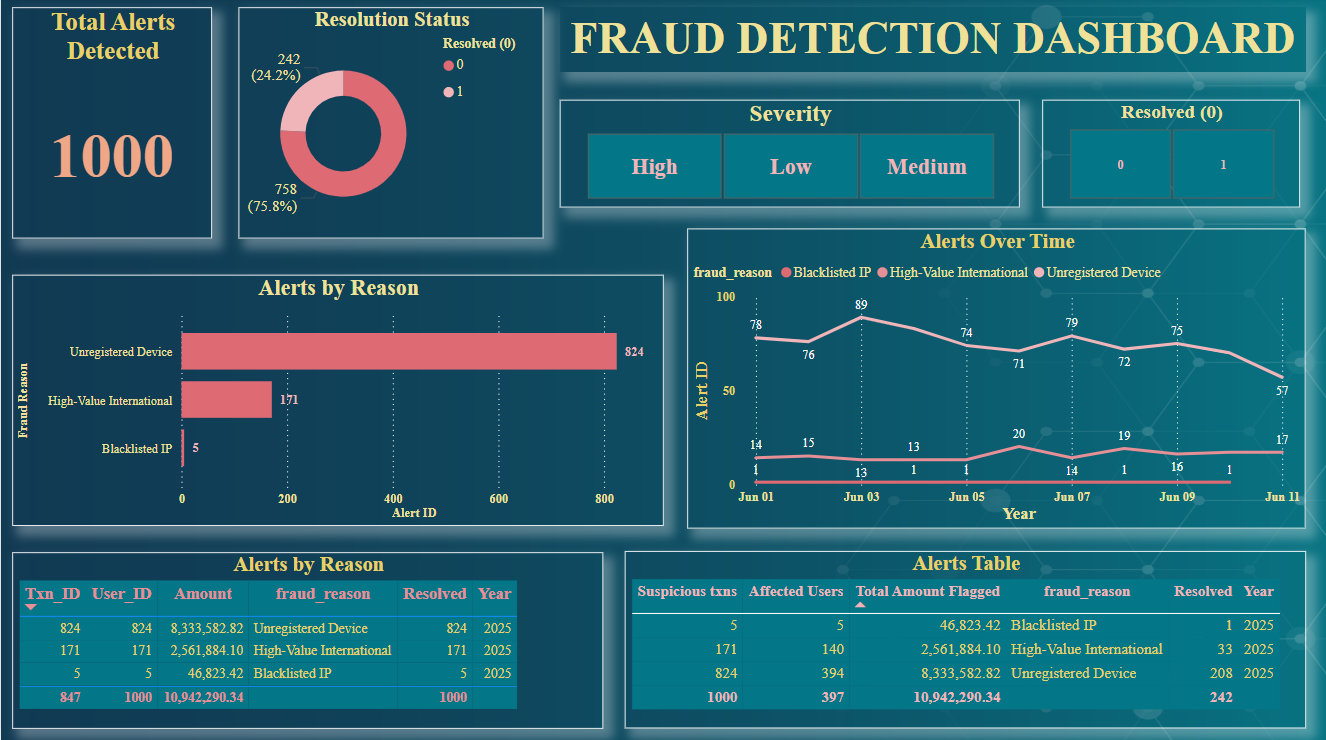

This screenshot's page, from the dashboard's own definition file:
{"tool":"powerbi","page":{"name":"Page 1","canvas":[1280,720],"ordinal":0},"visuals":[{"type":"card","title":"Total Alerts Detected","fields":{"Values":["CountNonNull(alerts.alert_id)"]},"box":[10.9,10.9,193,223.2],"z":0},{"type":"donutChart","title":"Resolution Status","fields":{"Y":["CountNonNull(alerts.resolved)"],"Series":["alerts.resolved"]},"box":[229.2,10.9,294.4,223.2],"z":1000},{"type":"barChart","title":" Alerts by Reason","fields":{"Category":["alerts.fraud_reason"],"Y":["CountNonNull(alerts.alert_id)"]},"box":[10.9,269,628.6,242.5],"z":2000},{"type":"lineChart","title":"Alerts Over Time","fields":{"Y":["CountNonNull(alerts.alert_id)"],"Series":["alerts.fraud_reason"],"Category":["alerts.alert_fake_date.Variation.Date Hierarchy.Year","alerts.alert_fake_date.Variation.Date Hierarchy.Quarter","alerts.alert_fake_date.Variation.Date Hierarchy.Month","alerts.alert_fake_date.Variation.Date Hierarchy.Day"]},"box":[662.3,224.4,597.2,289.5],"z":3000},{"type":"tableEx","title":"Alerts Table","fields":{"Values":["CountNonNull(alerts.txn_id)","Count(alerts.user_id)","Sum(alerts.amount)","alerts.fraud_reason","Sum(alerts.resolved)","alerts.created_at.Variation.Date Hierarchy.Year"]},"box":[602,535.7,657.5,171.3],"z":4000},{"type":"tableEx","title":"Alerts by Reason","fields":{"Values":["Count(alerts.txn_id)","CountNonNull(alerts.user_id)","Sum(alerts.amount)","alerts.fraud_reason","CountNonNull(alerts.resolved)","alerts.created_at.Variation.Date Hierarchy.Year"]},"box":[10.9,536.9,570.6,170.1],"z":5000},{"type":"slicer","title":"Resolved (0)","fields":{"Values":["alerts.resolved"]},"box":[1005,100.1,248.5,103.8],"z":5001},{"type":"slicer","title":"Severity","fields":{"Values":["alerts.severity"]},"box":[539.3,100.1,444,103.8],"z":5002},{"type":"textbox","box":[539.3,10.9,720.2,62.7],"z":5003}]}

Visuals, with their boxes in screenshot pixels (x1, y1, x2, y2), scaled from the page's 1280x720 canvas onto the 1326x740 screenshot:
"Total Alerts Detected" card: (x1=11, y1=11, x2=211, y2=241)
"Resolution Status" donutChart: (x1=237, y1=11, x2=542, y2=241)
" Alerts by Reason" barChart: (x1=11, y1=276, x2=662, y2=526)
"Alerts Over Time" lineChart: (x1=686, y1=231, x2=1305, y2=528)
"Alerts Table" tableEx: (x1=624, y1=551, x2=1305, y2=727)
"Alerts by Reason" tableEx: (x1=11, y1=552, x2=602, y2=727)
"Resolved (0)" slicer: (x1=1041, y1=103, x2=1299, y2=210)
"Severity" slicer: (x1=559, y1=103, x2=1019, y2=210)
textbox: (x1=559, y1=11, x2=1305, y2=76)
